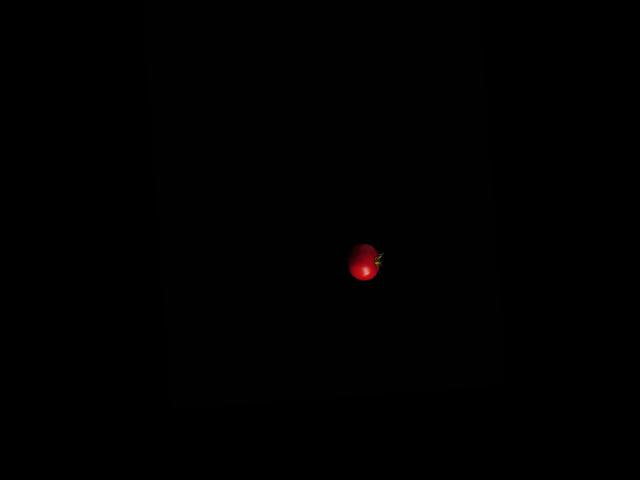tomato: (347, 242, 380, 281)
